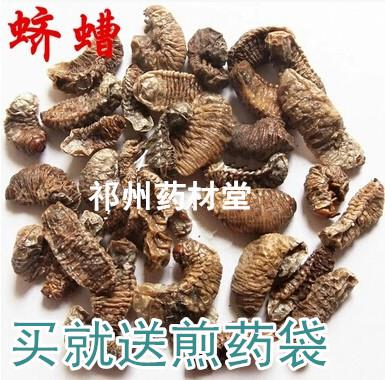grub: (275, 66, 368, 170)
